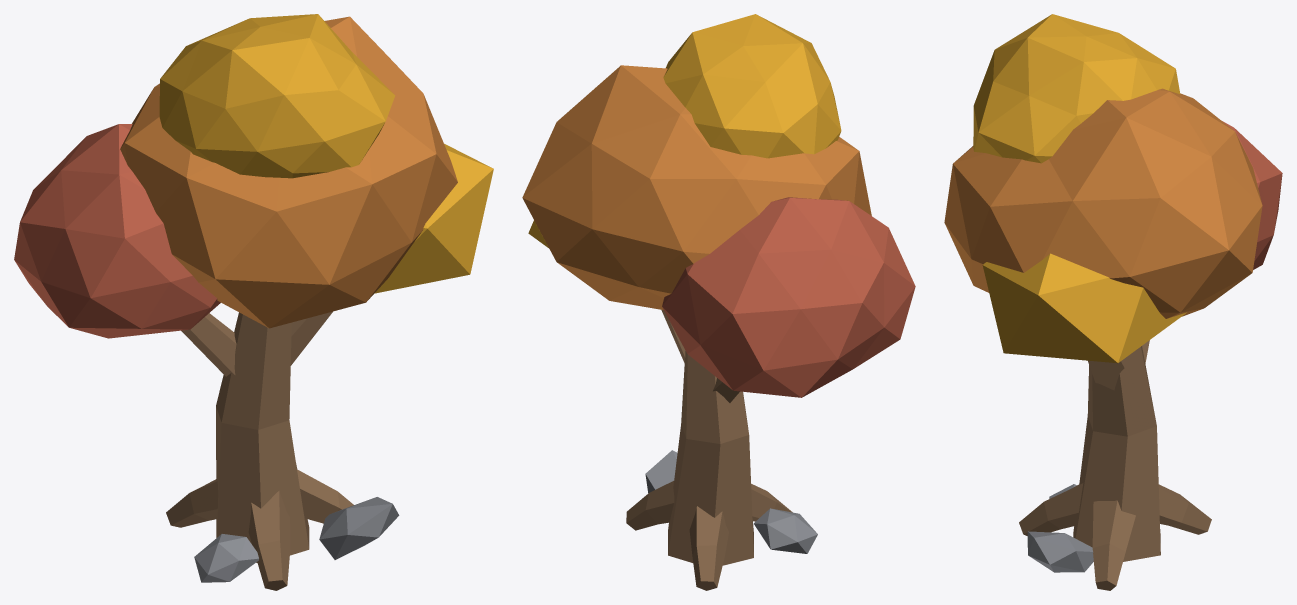
File: Cozy_Tree_Small_03_AutumnMini.fbx
The picture shows the model from 3 angles, left to right: view 1: azimuth 30°, elevation 25°; view 2: azimuth 150°, elevation 25°; view 3: azimuth 270°, elevation 25°; orthographic projection. The views are drawn at different scales.
Visible parts, largest first — view 1: Cozy_Tree_Small_03_AutumnMini; view 2: Cozy_Tree_Small_03_AutumnMini; view 3: Cozy_Tree_Small_03_AutumnMini.
Part boxes in pixels (left/top/right/bottom): Cozy_Tree_Small_03_AutumnMini: left=14, top=14, right=493, bottom=590; Cozy_Tree_Small_03_AutumnMini: left=522, top=14, right=915, bottom=590; Cozy_Tree_Small_03_AutumnMini: left=944, top=14, right=1282, bottom=590.
Bounding box in the file's own units: 1.64 × 2.13 × 1.27.
